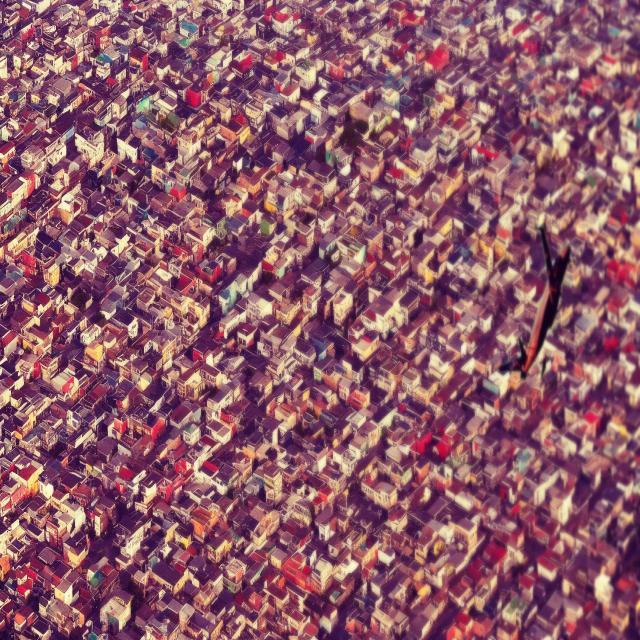airplane: (497, 214, 571, 380)
